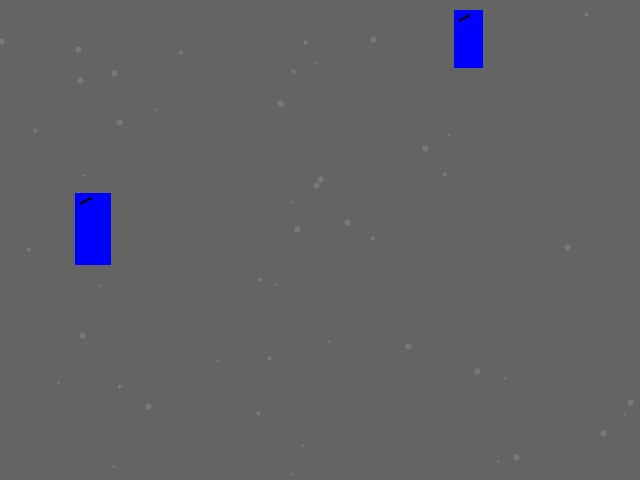motorcycle: (75, 193, 110, 264), (454, 10, 482, 67)
